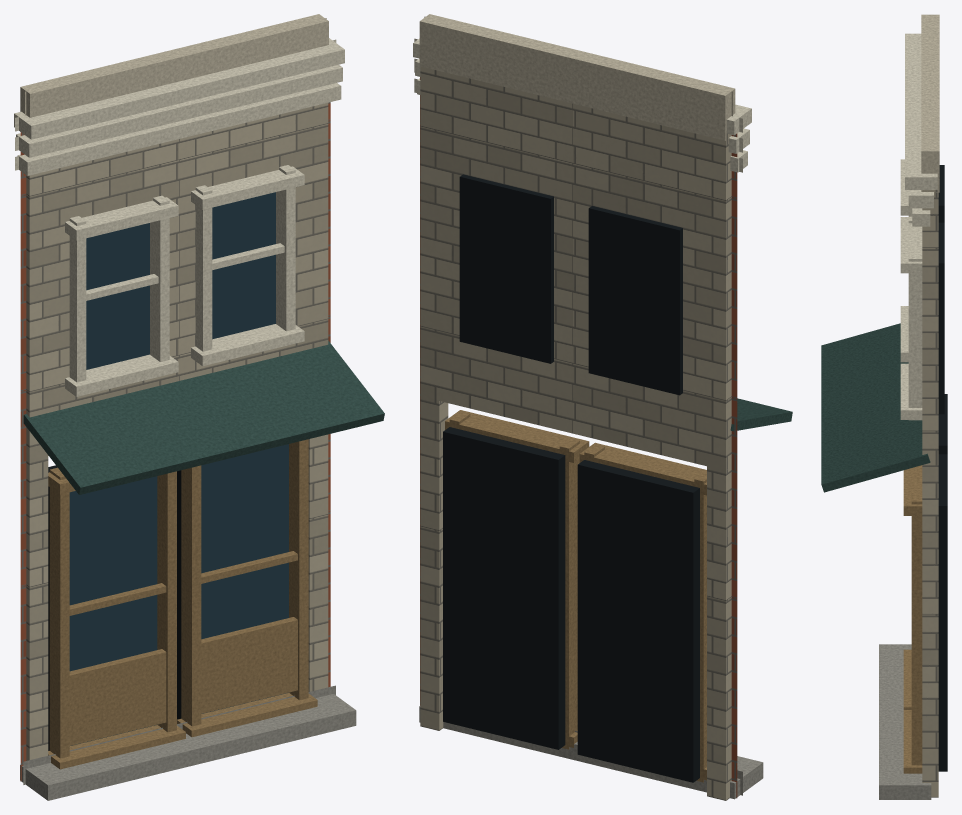
Rendered from BUSS8_lod2.glb.
The picture shows the model from 3 angles, left to right: view 1: azimuth 30°, elevation 25°; view 2: azimuth 150°, elevation 25°; view 3: azimuth 270°, elevation 25°; orthographic projection. The views are drawn at different scales.
Visible parts, largest first — view 1: BUSS8_FRONT_LOD2; view 2: BUSS8_FRONT_LOD2; view 3: BUSS8_FRONT_LOD2.
Boxes of the visible parts, <box> form: BUSS8_FRONT_LOD2: <box>14,14,384,800</box>; BUSS8_FRONT_LOD2: <box>413,14,792,800</box>; BUSS8_FRONT_LOD2: <box>821,14,947,799</box>.
Size of the model in its own units: 3.44 by 7.05 by 1.25.
10 materials, 8 textured.
